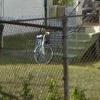Bicycle: (29, 26, 55, 66)
